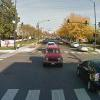Crosswalk: (3, 81, 91, 100)
